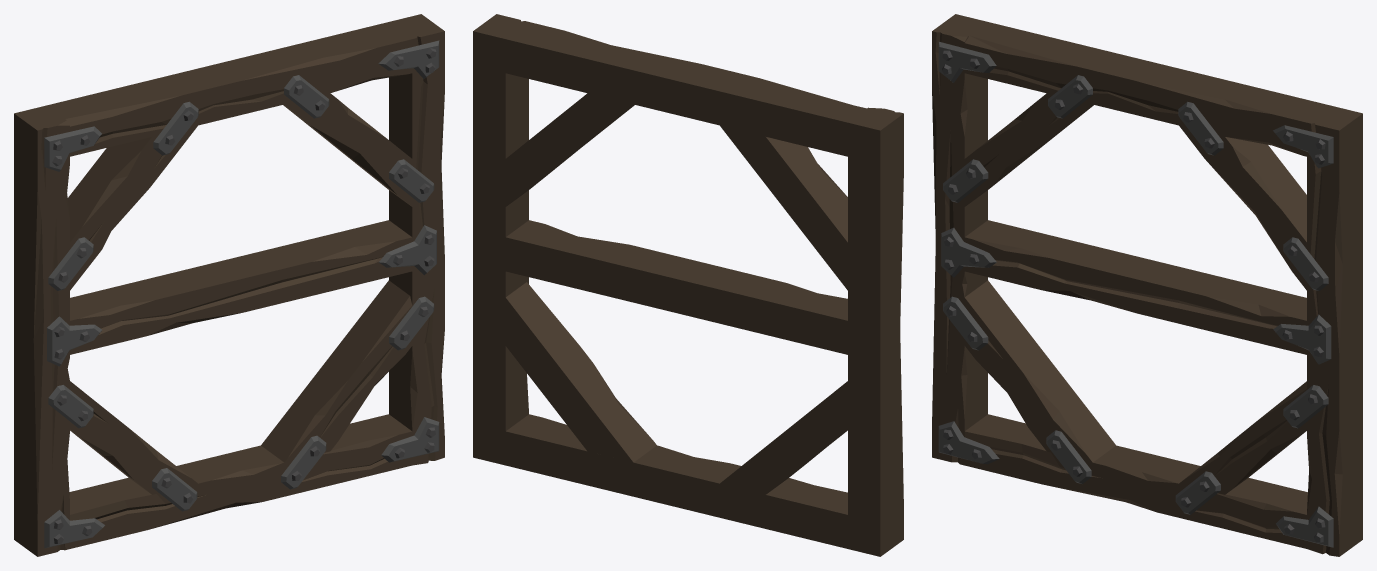
Rendered from forge_wall_dressed.gltf.
The picture shows the model from 3 angles, left to right: view 1: azimuth 30°, elevation 25°; view 2: azimuth 150°, elevation 25°; view 3: azimuth 330°, elevation 25°; orthographic projection.
Visible parts, largest first — view 1: forge_wall_dressed; view 2: forge_wall_dressed; view 3: forge_wall_dressed.
Boxes of the visible parts, x1,y1,x2,y2 form: forge_wall_dressed: (14, 14, 444, 556); forge_wall_dressed: (473, 14, 903, 556); forge_wall_dressed: (932, 14, 1362, 556).
Size of the model in its own units: 5 by 5.02 by 0.5912.
Materials: 1 (1 with a texture image).
